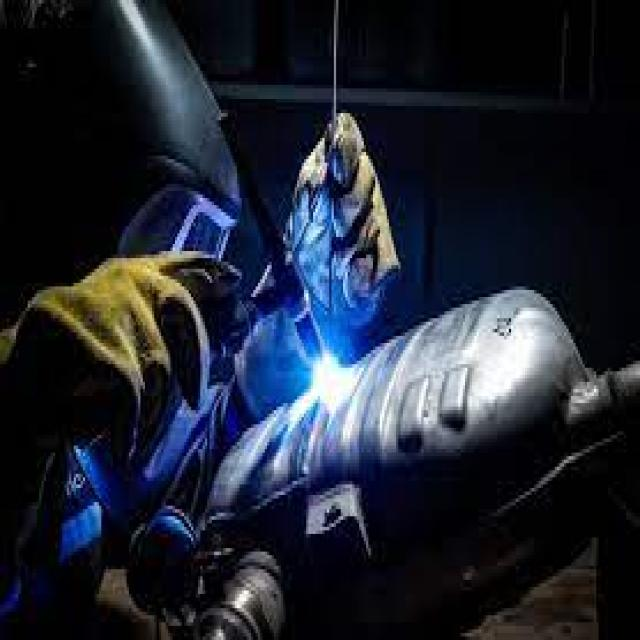welding: (312, 346, 350, 408)
